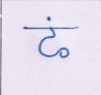anusvara: (46, 17, 52, 21)
